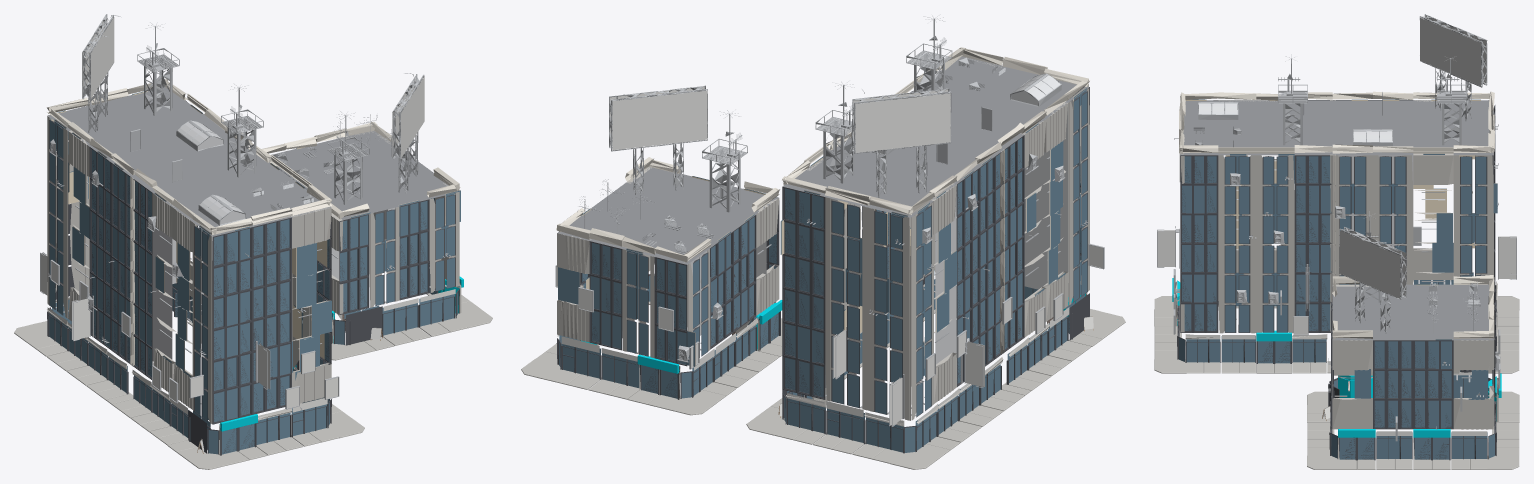
File: town-block.glb
3 renders of one model, left to right at view 1: azimuth 30°, elevation 25°; view 2: azimuth 150°, elevation 25°; view 3: azimuth 270°, elevation 25°, orthographic. The views are drawn at different scales.
Visible parts, largest first — view 1: Glass, Black_details, proxy_mat_roof, proxy_mat_Concret, proxy_mat_grey, Vereda, proxy_mat_stone, Sign, proxy_mat_general_reflective, Light, Fascia; view 2: Glass, Black_details, proxy_mat_Concret, proxy_mat_roof, Sign, proxy_mat_grey, Vereda, proxy_mat_stone, proxy_mat_general_reflective, Fascia; view 3: Glass, proxy_mat_roof, proxy_mat_Concret, Black_details, Vereda, proxy_mat_grey, Sign, proxy_mat_stone, Fascia, proxy_mat_general_reflective, Light.
Boxes of the visible parts, x1,y1,x2,y2 form: Glass: (49,91,460,454); Black_details: (47,120,460,455); proxy_mat_roof: (47,87,459,236); proxy_mat_Concret: (47,100,461,455); proxy_mat_grey: (40,14,450,409); Vereda: (14,293,492,469); proxy_mat_stone: (47,79,460,377); Sign: (40,17,455,451); proxy_mat_general_reflective: (152,121,399,415); Light: (51,91,445,359); Fascia: (219,276,463,431); Glass: (558,88,1087,452); Black_details: (557,87,1089,453); proxy_mat_Concret: (557,58,1089,426); proxy_mat_roof: (557,56,1089,264); Sign: (556,86,1102,426); proxy_mat_grey: (555,14,1104,426); Vereda: (521,301,1125,469); proxy_mat_stone: (556,47,1089,408); proxy_mat_general_reflective: (622,74,1077,387); Fascia: (581,293,1085,373); Glass: (1179,99,1497,459); proxy_mat_roof: (1180,100,1493,340); proxy_mat_Concret: (1175,100,1498,459); Black_details: (1175,100,1498,460); Vereda: (1154,296,1519,469); proxy_mat_grey: (1157,14,1516,441); Sign: (1157,15,1516,435); proxy_mat_stone: (1179,91,1497,398); Fascia: (1172,278,1501,437); proxy_mat_general_reflective: (1199,102,1413,247); Light: (1185,100,1488,396).
Size of the model in its own units: 37.59 by 30.12 by 33.5.
